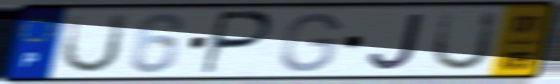6: (127, 11, 185, 75)
G: (276, 10, 344, 74)
J: (367, 11, 428, 72)
P: (197, 9, 276, 77)
U: (57, 11, 131, 76), (428, 9, 502, 73)
